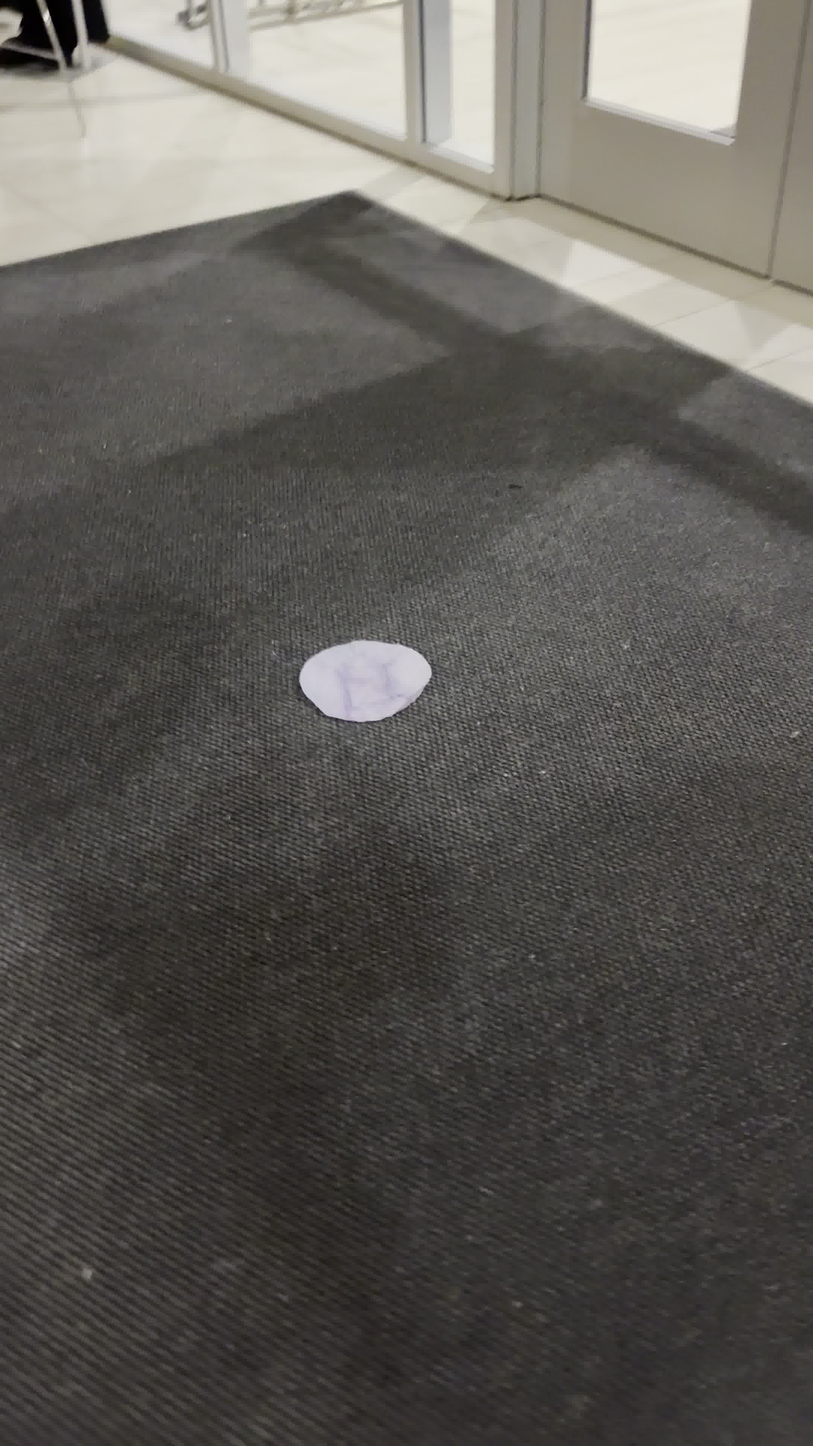Target: (298, 639, 432, 722)
